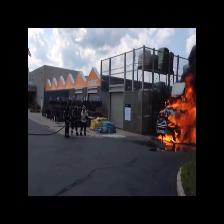fire: (172, 90, 196, 145)
smoke: (186, 51, 196, 74)
